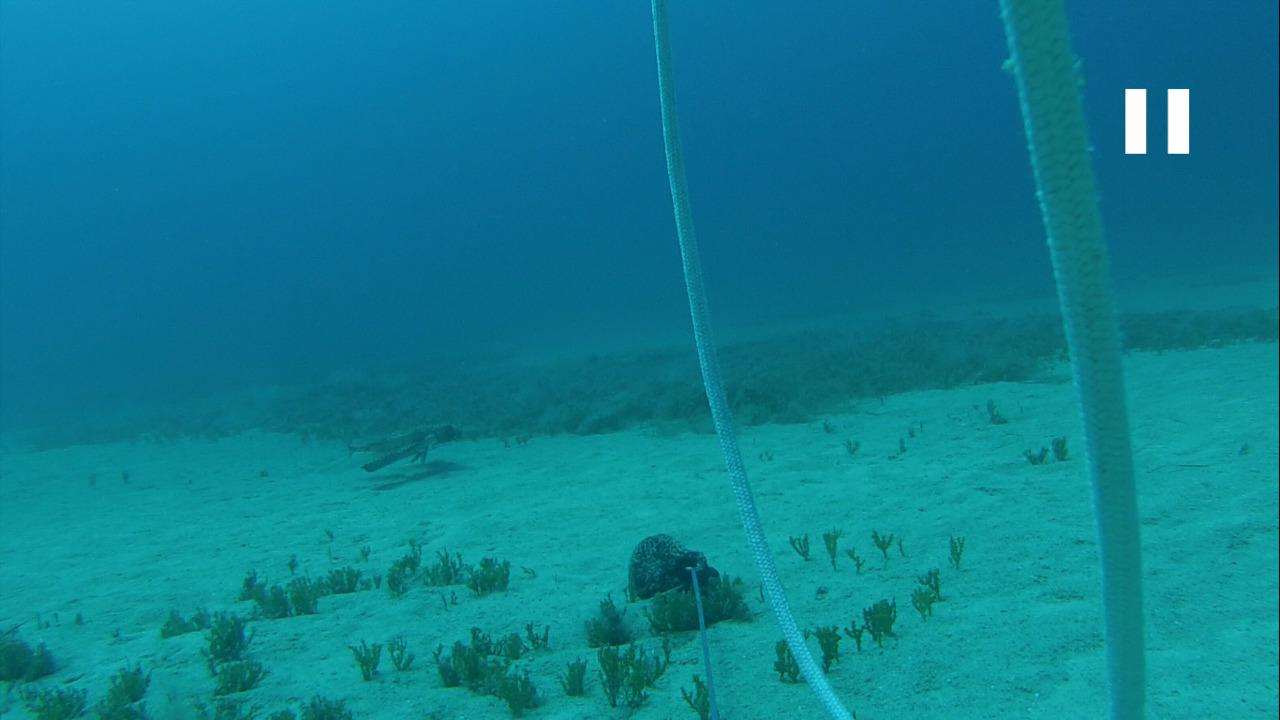dactylopterus: (338, 417, 469, 472)
